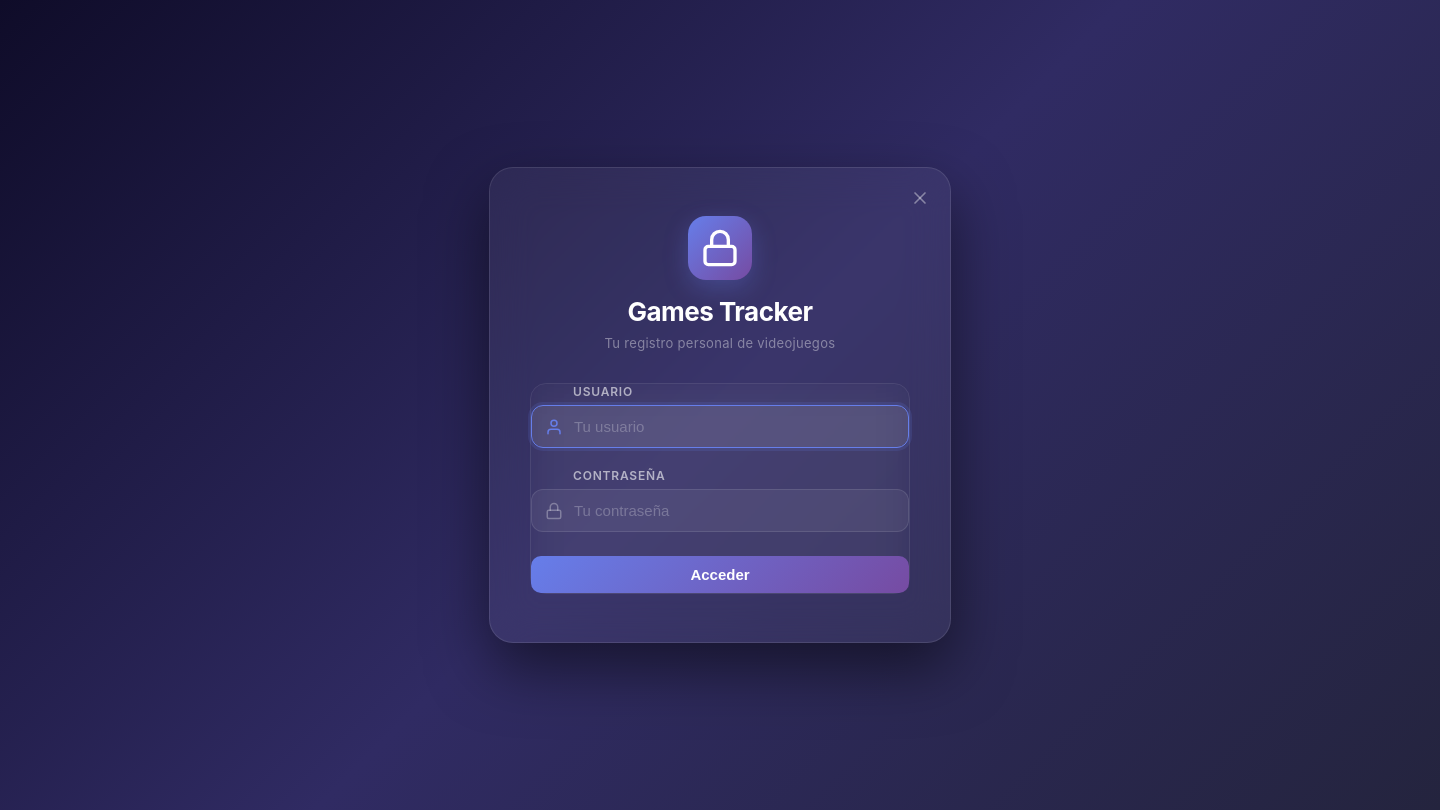
Test case: shows error message on failed login
In the field labelled "Usuario": (720, 426) [531, 405, 909, 448], type "bad"
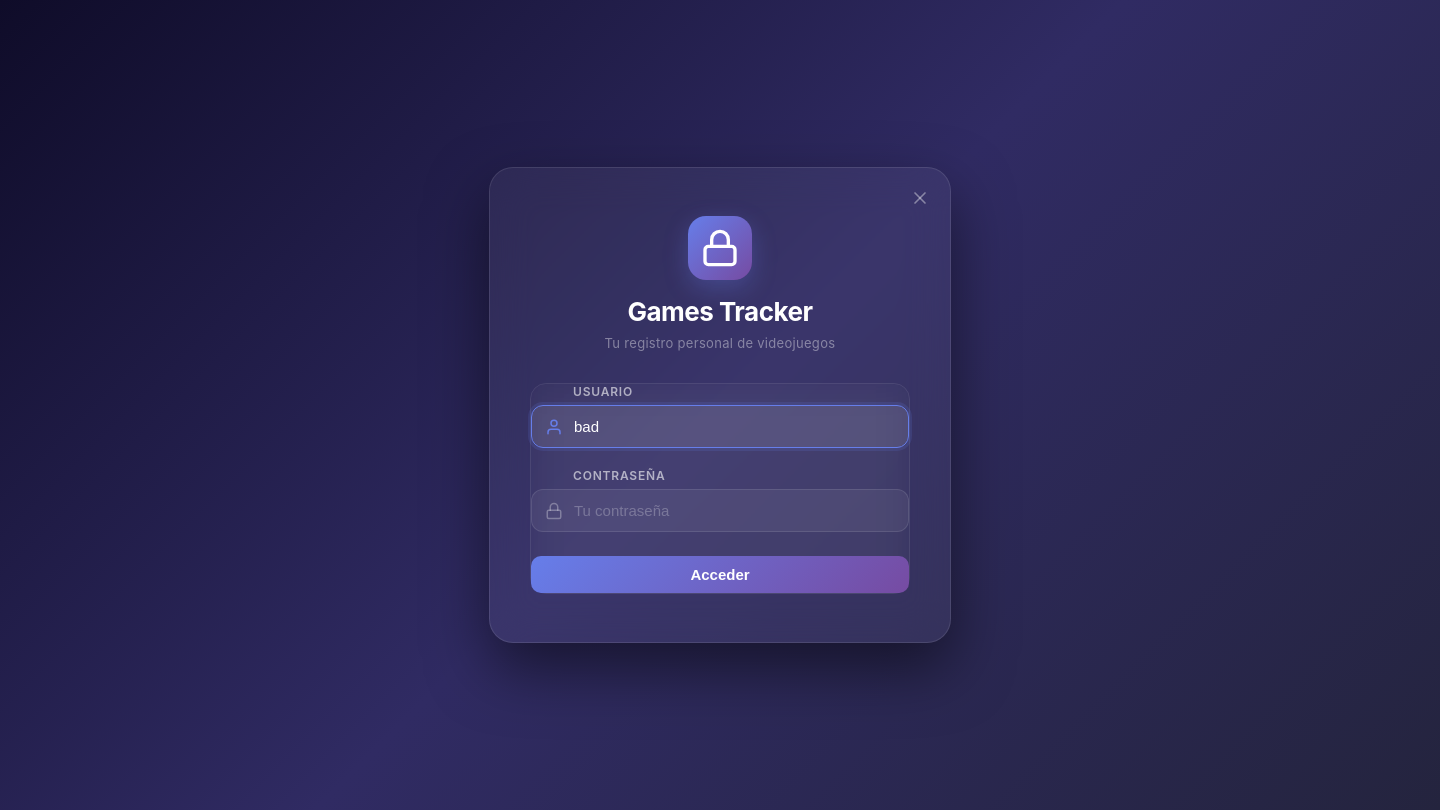
In the password field labelled "Contraseña": (720, 510) [531, 489, 909, 532], type "wrong"
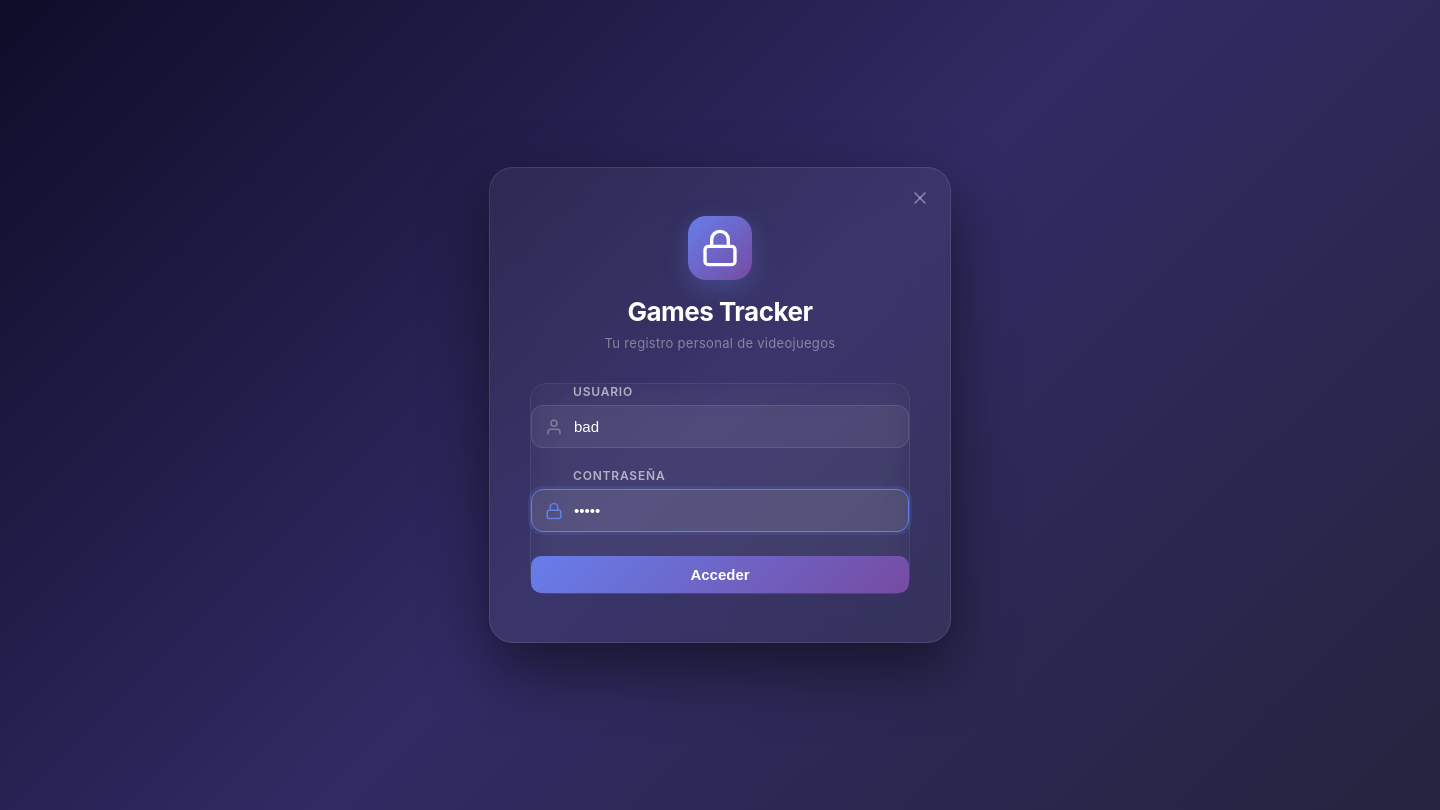
Click the button "Acceder": (720, 574) [531, 556, 909, 593]
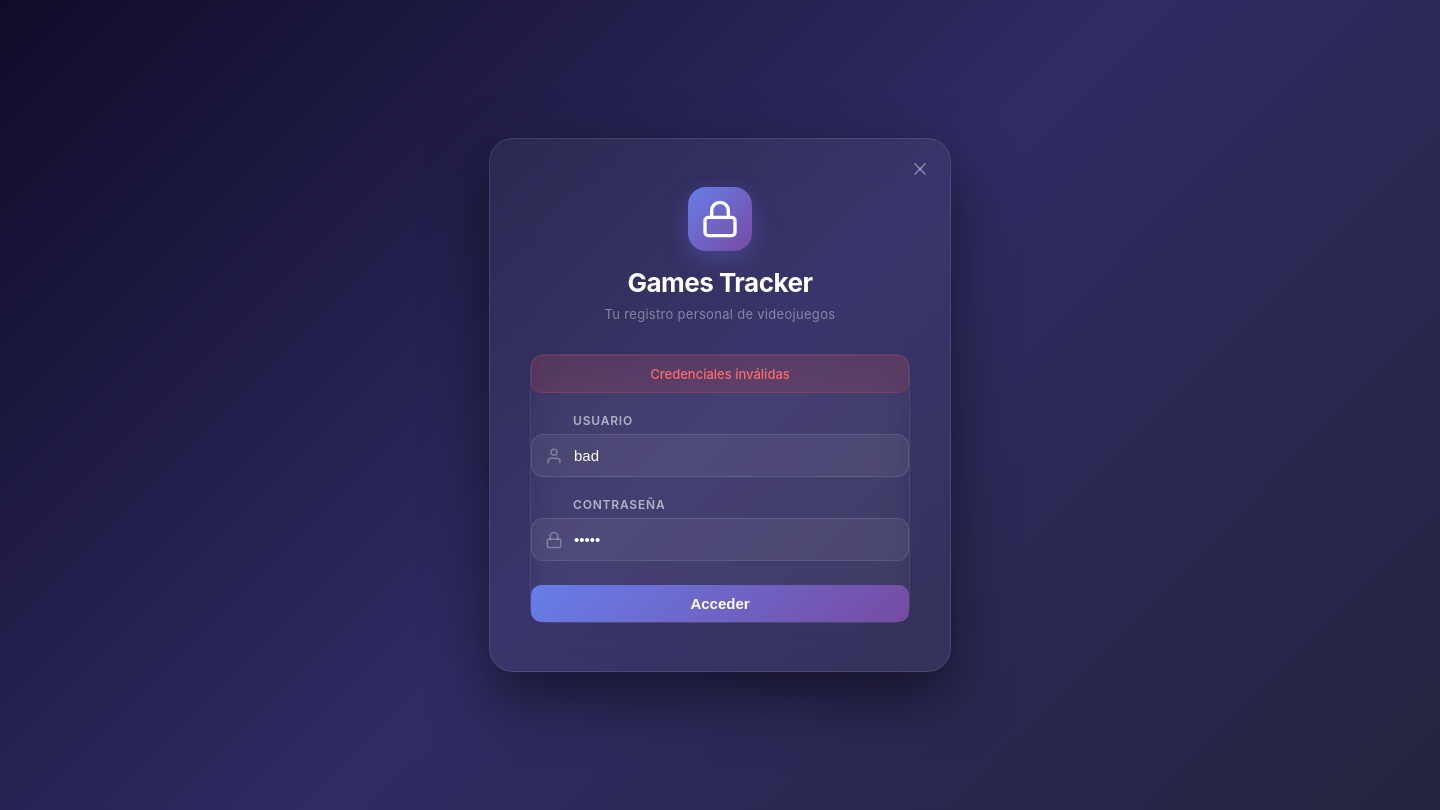
Expected: the text "Credenciales inválidas" is shown, [531, 355, 909, 393]
